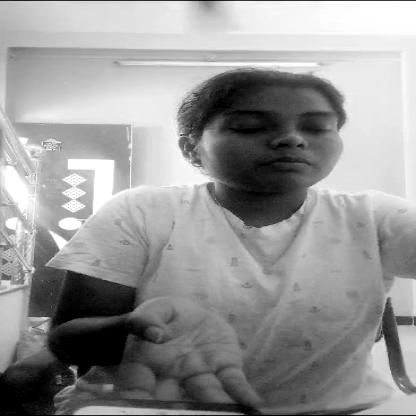Distracted: (171, 75, 356, 209)
